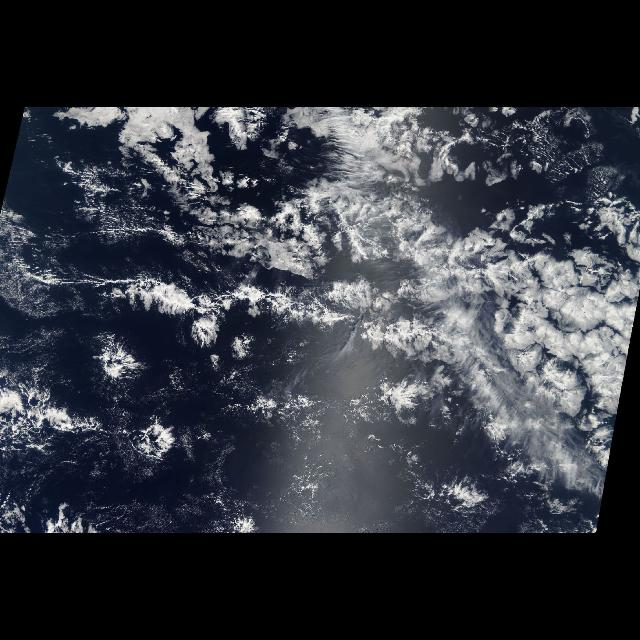Sugar: (218, 372, 494, 532), (0, 145, 142, 353)
